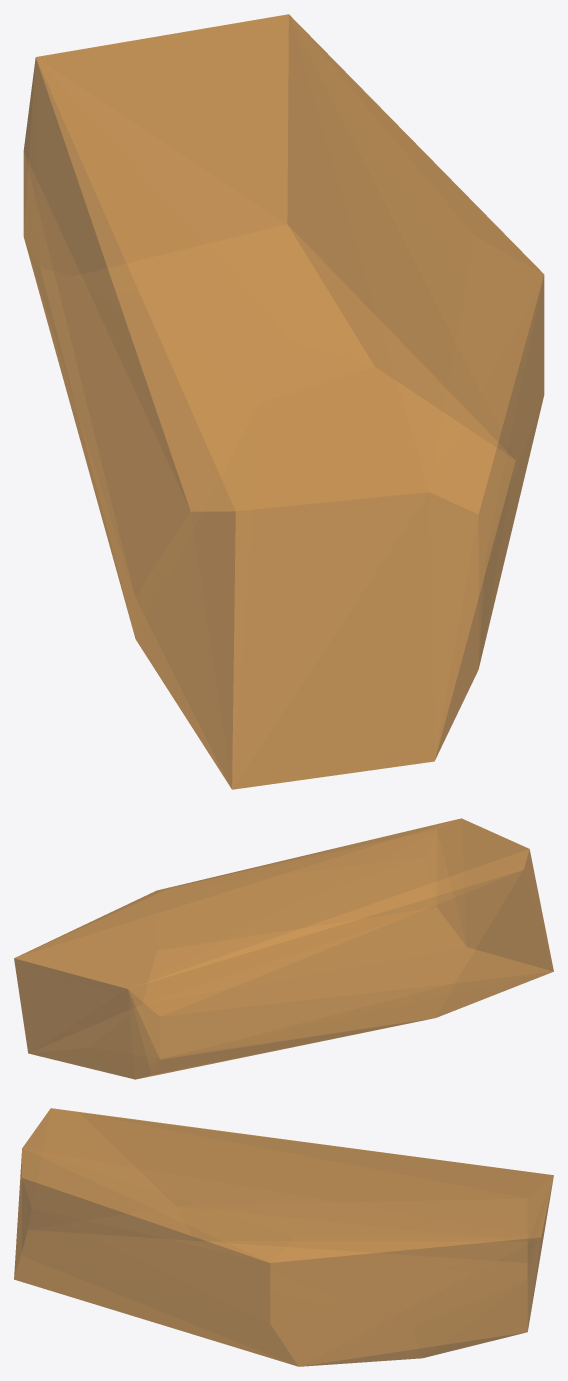
3 views of the same model, one above another, from view 1: azimuth 30°, elevation 25°; view 2: azimuth 150°, elevation 25°; view 3: azimuth 270°, elevation 25° (orthographic). The views are drawn at different scales.
Visible parts, largest first — view 1: Shape_IndexedFaceSet.011_Shape_IndexedFaceSet.7497; view 2: Shape_IndexedFaceSet.011_Shape_IndexedFaceSet.7497; view 3: Shape_IndexedFaceSet.011_Shape_IndexedFaceSet.7497.
Boxes of the visible parts, box(x1,y1,x2,y2) form: Shape_IndexedFaceSet.011_Shape_IndexedFaceSet.7497: box(23, 14, 544, 789); Shape_IndexedFaceSet.011_Shape_IndexedFaceSet.7497: box(14, 818, 553, 1079); Shape_IndexedFaceSet.011_Shape_IndexedFaceSet.7497: box(14, 1108, 553, 1366).
Size of the model in its own units: 0.2548 by 0.1183 by 0.4181.
